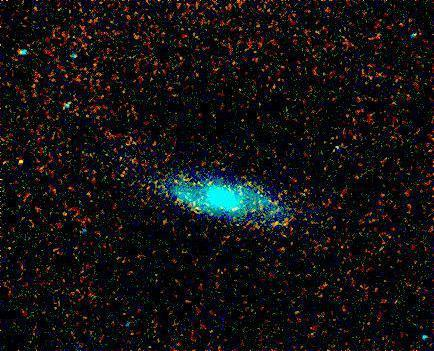star: (6, 146, 36, 176)
